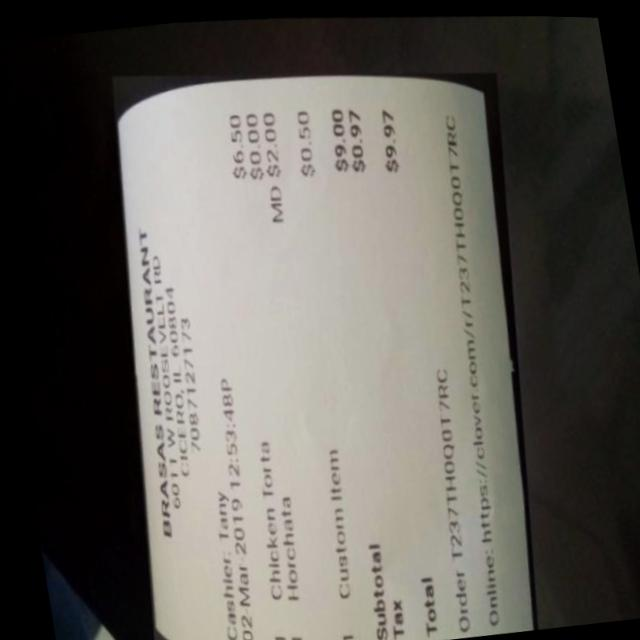Paper: (63, 16, 583, 640)
